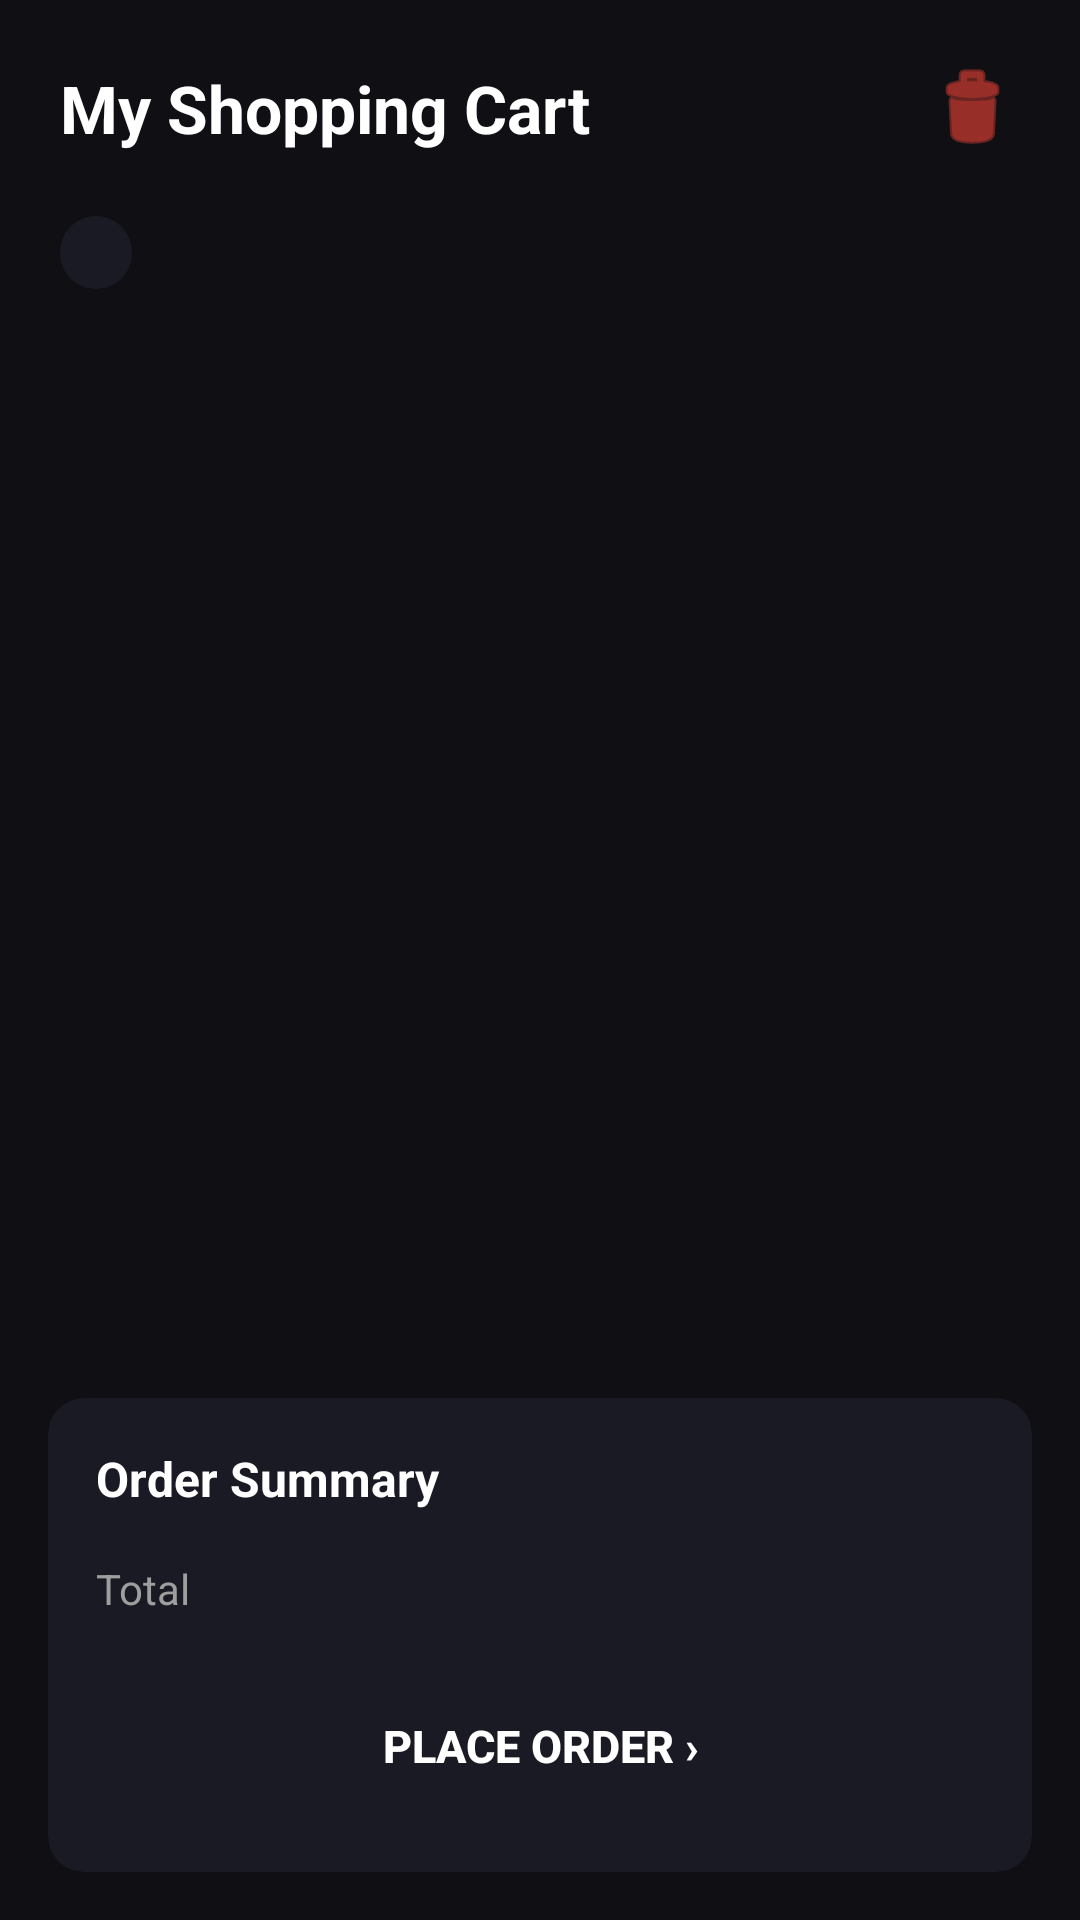

Named icons in this screenshot (1080 × 1920) and their centers, (x=x, y=y):
Clear cart: (x=972, y=106)
